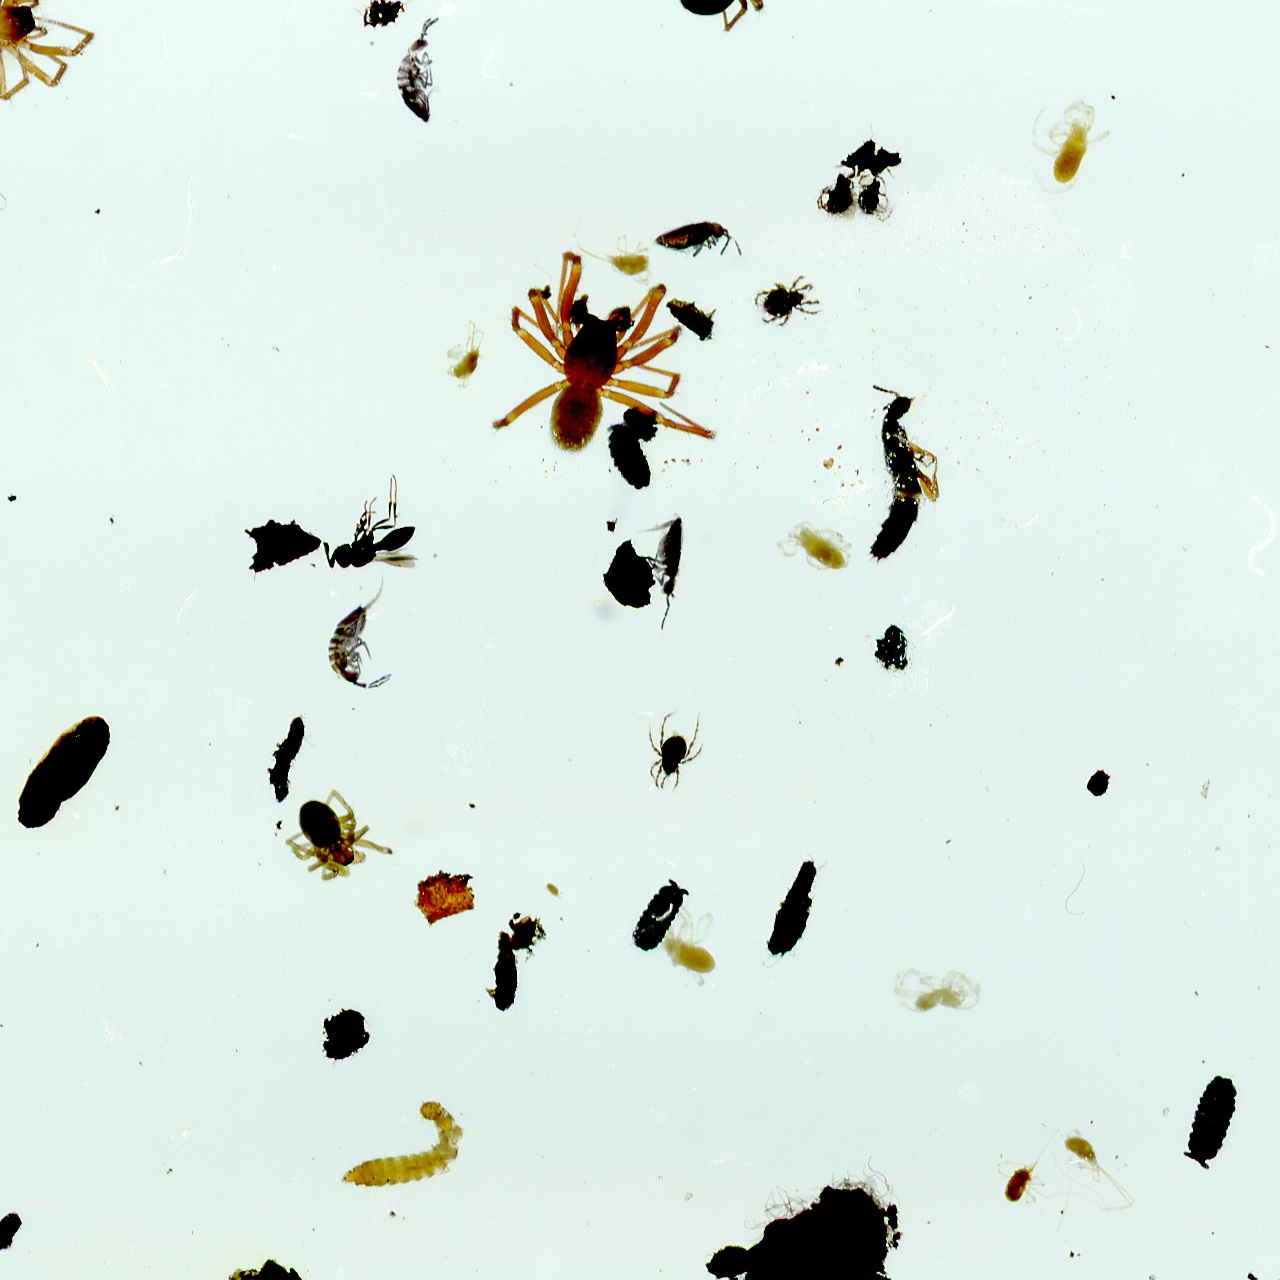arthropod: (475, 236, 758, 490), (271, 776, 395, 900), (866, 381, 940, 566), (1022, 1123, 1138, 1234), (0, 0, 103, 116), (339, 1099, 464, 1191), (324, 469, 423, 571), (1026, 94, 1112, 198), (622, 506, 690, 634), (326, 574, 394, 692), (1177, 1068, 1247, 1175), (620, 871, 699, 961), (651, 211, 745, 277), (571, 212, 653, 286), (393, 15, 445, 129), (598, 414, 662, 498), (890, 962, 986, 1017), (646, 706, 706, 792), (659, 904, 719, 988), (674, 0, 796, 36), (774, 519, 852, 572), (750, 274, 821, 328), (444, 316, 486, 393), (990, 1158, 1050, 1205), (856, 165, 897, 225), (816, 172, 862, 224)
